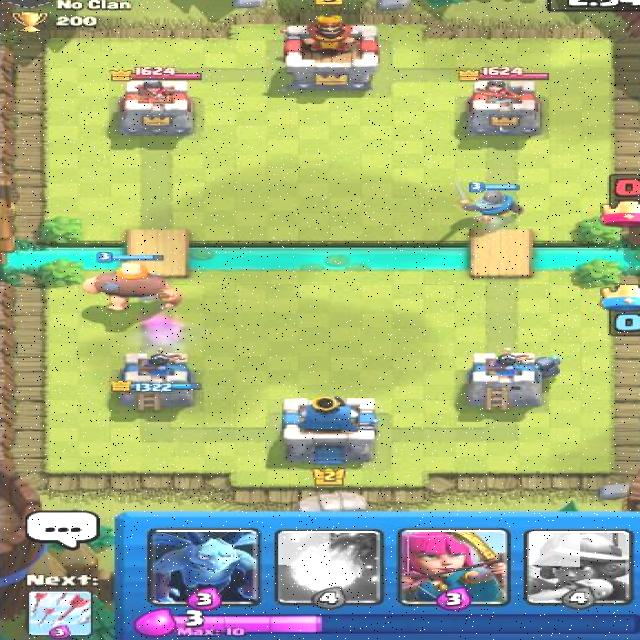Player-Giant: (80, 251, 184, 312)
Player-Knight: (451, 180, 527, 223)
Player-MiniPEKKA: (526, 352, 569, 381)
